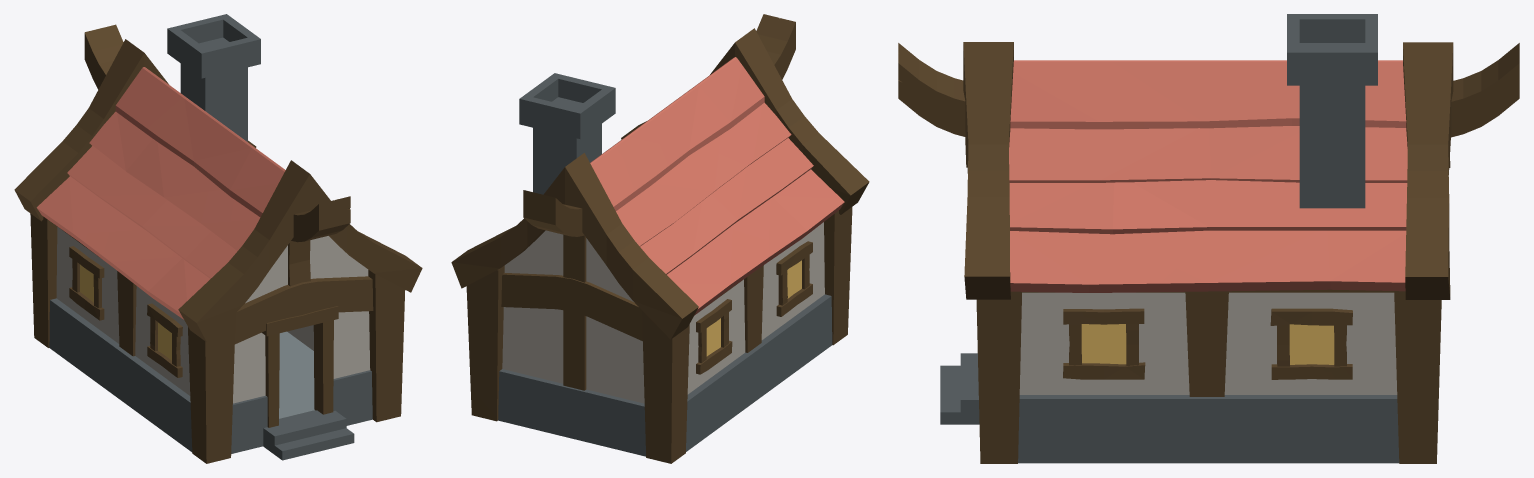
Rendered from House_01.fbx.
3 views of the same model, side by side, from view 1: azimuth 30°, elevation 25°; view 2: azimuth 150°, elevation 25°; view 3: azimuth 270°, elevation 25° (orthographic). The views are drawn at different scales.
Visible parts, largest first — view 1: House_01; view 2: House_01; view 3: House_01.
Boxes of the visible parts, x1,y1,x2,y2 form: House_01: [14, 14, 422, 463]; House_01: [451, 14, 869, 463]; House_01: [898, 14, 1519, 463].
Bounding box in the file's own units: 477 × 603 × 857.
